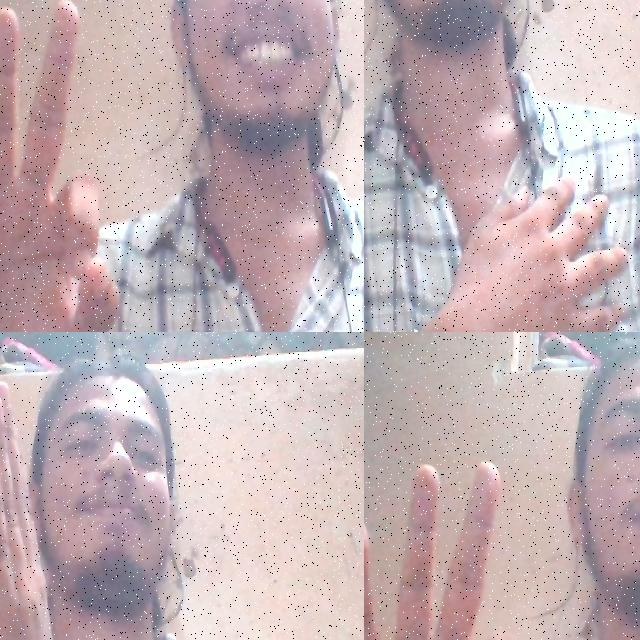I love u: (402, 172, 640, 332)
Please: (0, 0, 134, 332), (364, 437, 551, 640)
Thank You: (0, 368, 87, 640)
